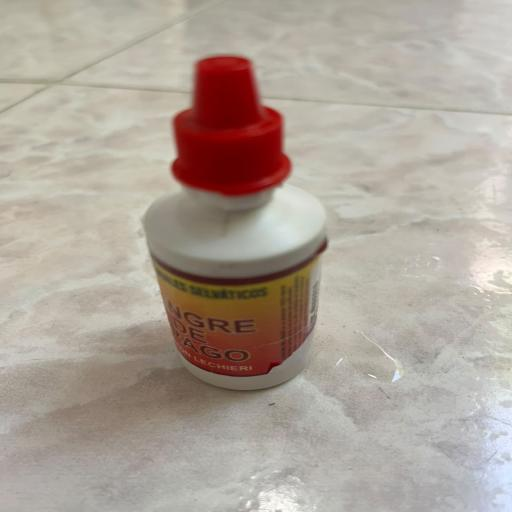HDPE: (139, 56, 382, 407)
